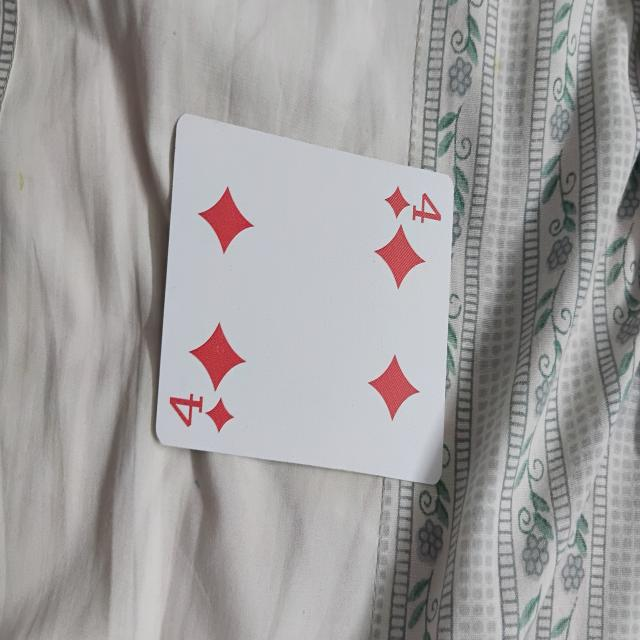4D: (154, 116, 454, 485)
